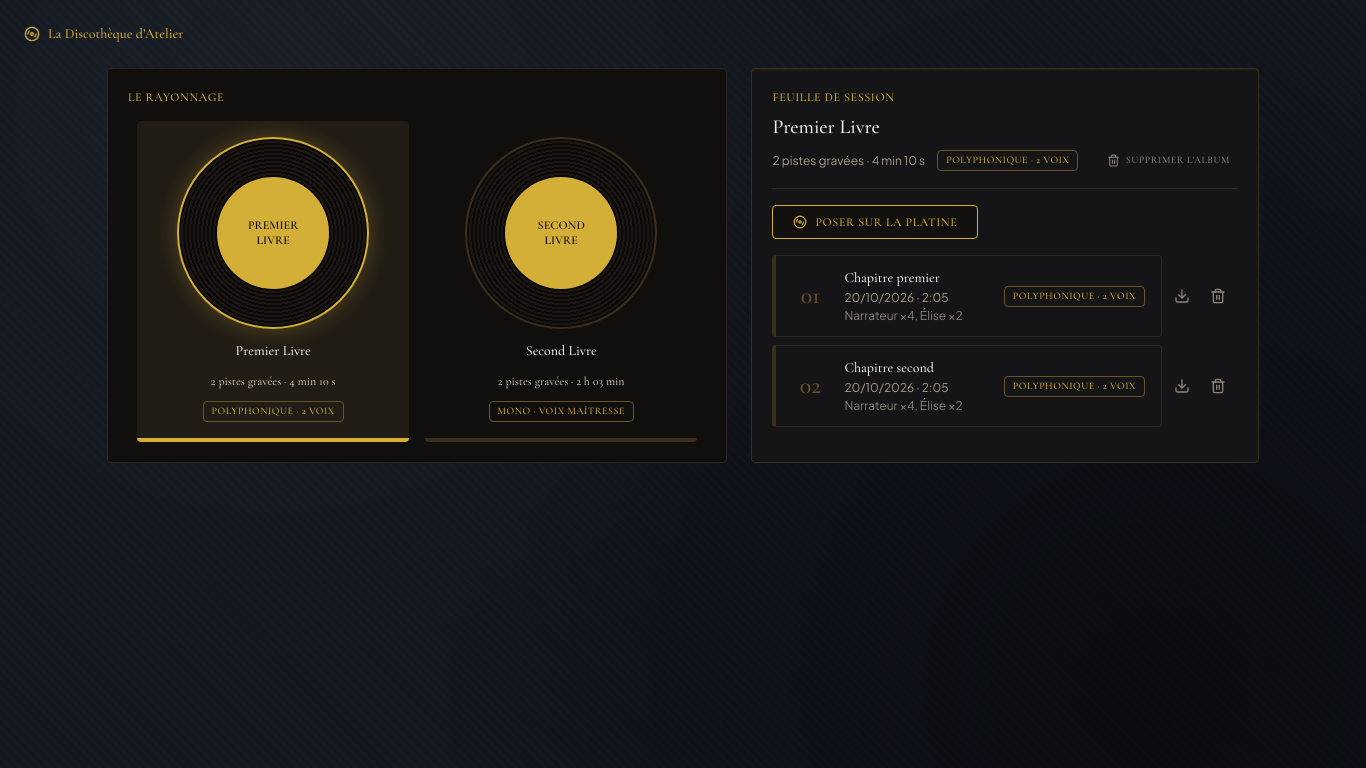
Test: DiscothequeView › selects a disc and unfolds its session sheet without leaving the page
Expected: the list named "Pistes gravées" is shown, [772, 255, 1238, 442]
Expected: the text "Narrateur ×4, Élise ×2" is shown 2 times, [844, 308, 963, 323]; [844, 398, 963, 413]
Click the button with aria-label "Disque Second Livre".
click(561, 282)  # box [425, 121, 697, 442]
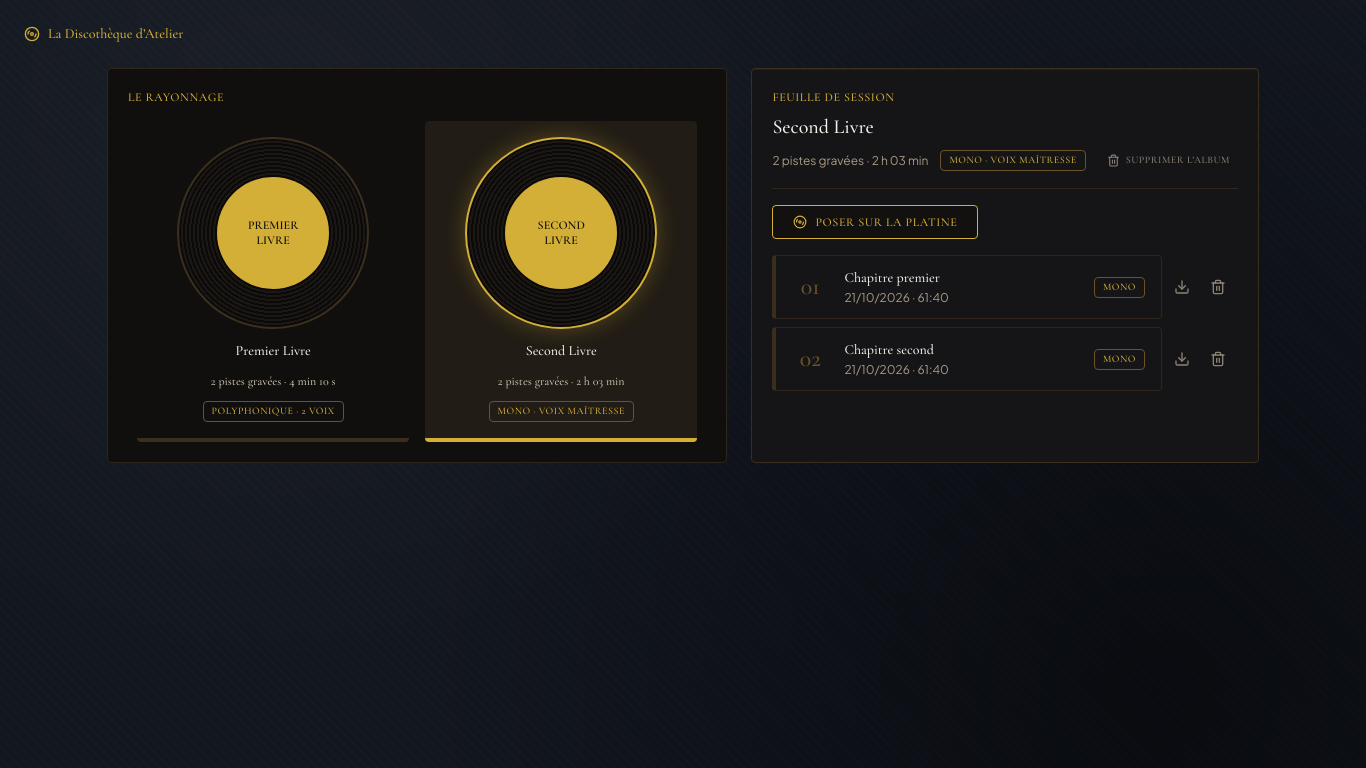
Now the text "21/10/2026 · 61:40" is shown 2 times, box [844, 290, 949, 305]; [844, 362, 949, 377]
Now the text "Narrateur ×4, Élise ×2" is not shown
